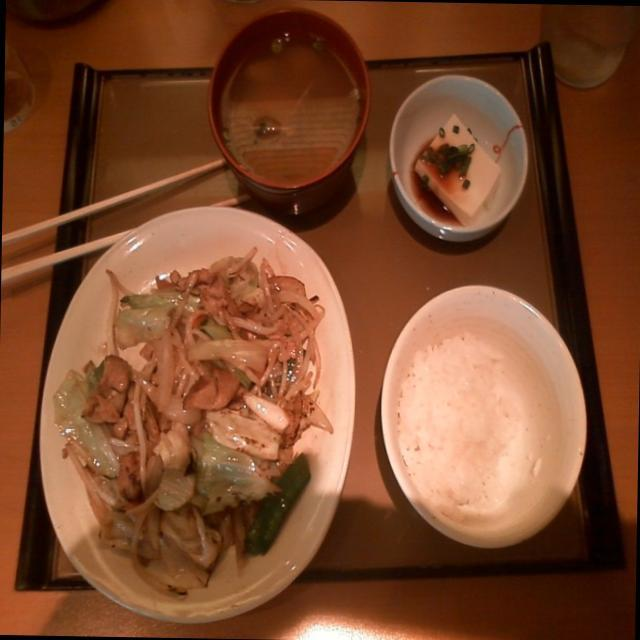Rice: (387, 319, 556, 514)
